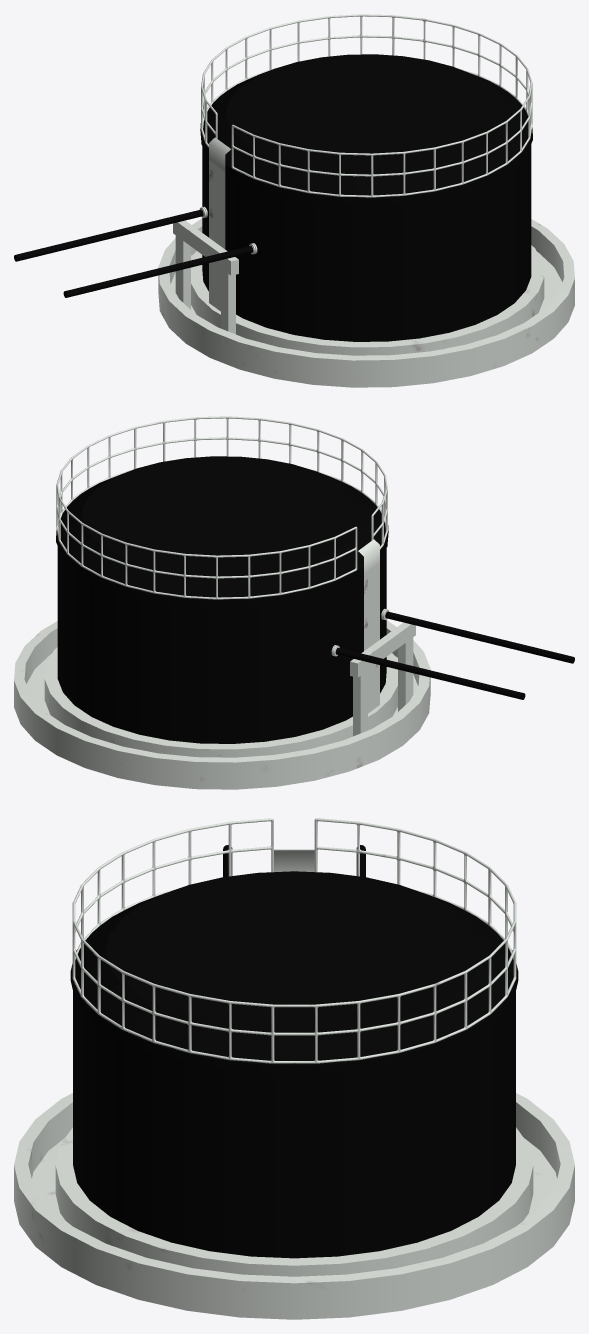
The model's file is TANK BELAKANG TRANS.fbx.
3 views of the same model, one above another, from view 1: azimuth 30°, elevation 25°; view 2: azimuth 150°, elevation 25°; view 3: azimuth 270°, elevation 25° (orthographic). The views are drawn at different scales.
Parts seen in each view (by area): view 1: Cylinder.001, Cylinder.015, Cylinder.002; view 2: Cylinder.001, Cylinder.015, Cylinder.002; view 3: Cylinder.001, Cylinder.015.
Part boxes in pixels (x1,y1,x2,y2): Cylinder.001: [200, 54, 532, 341]; Cylinder.015: [158, 14, 574, 387]; Cylinder.002: [14, 209, 253, 297]; Cylinder.001: [56, 456, 388, 743]; Cylinder.015: [14, 416, 430, 789]; Cylinder.002: [335, 611, 574, 699]; Cylinder.001: [70, 871, 518, 1258]; Cylinder.015: [14, 818, 574, 1319].
Size of the model in its own units: 1710 by 695 by 1219.
